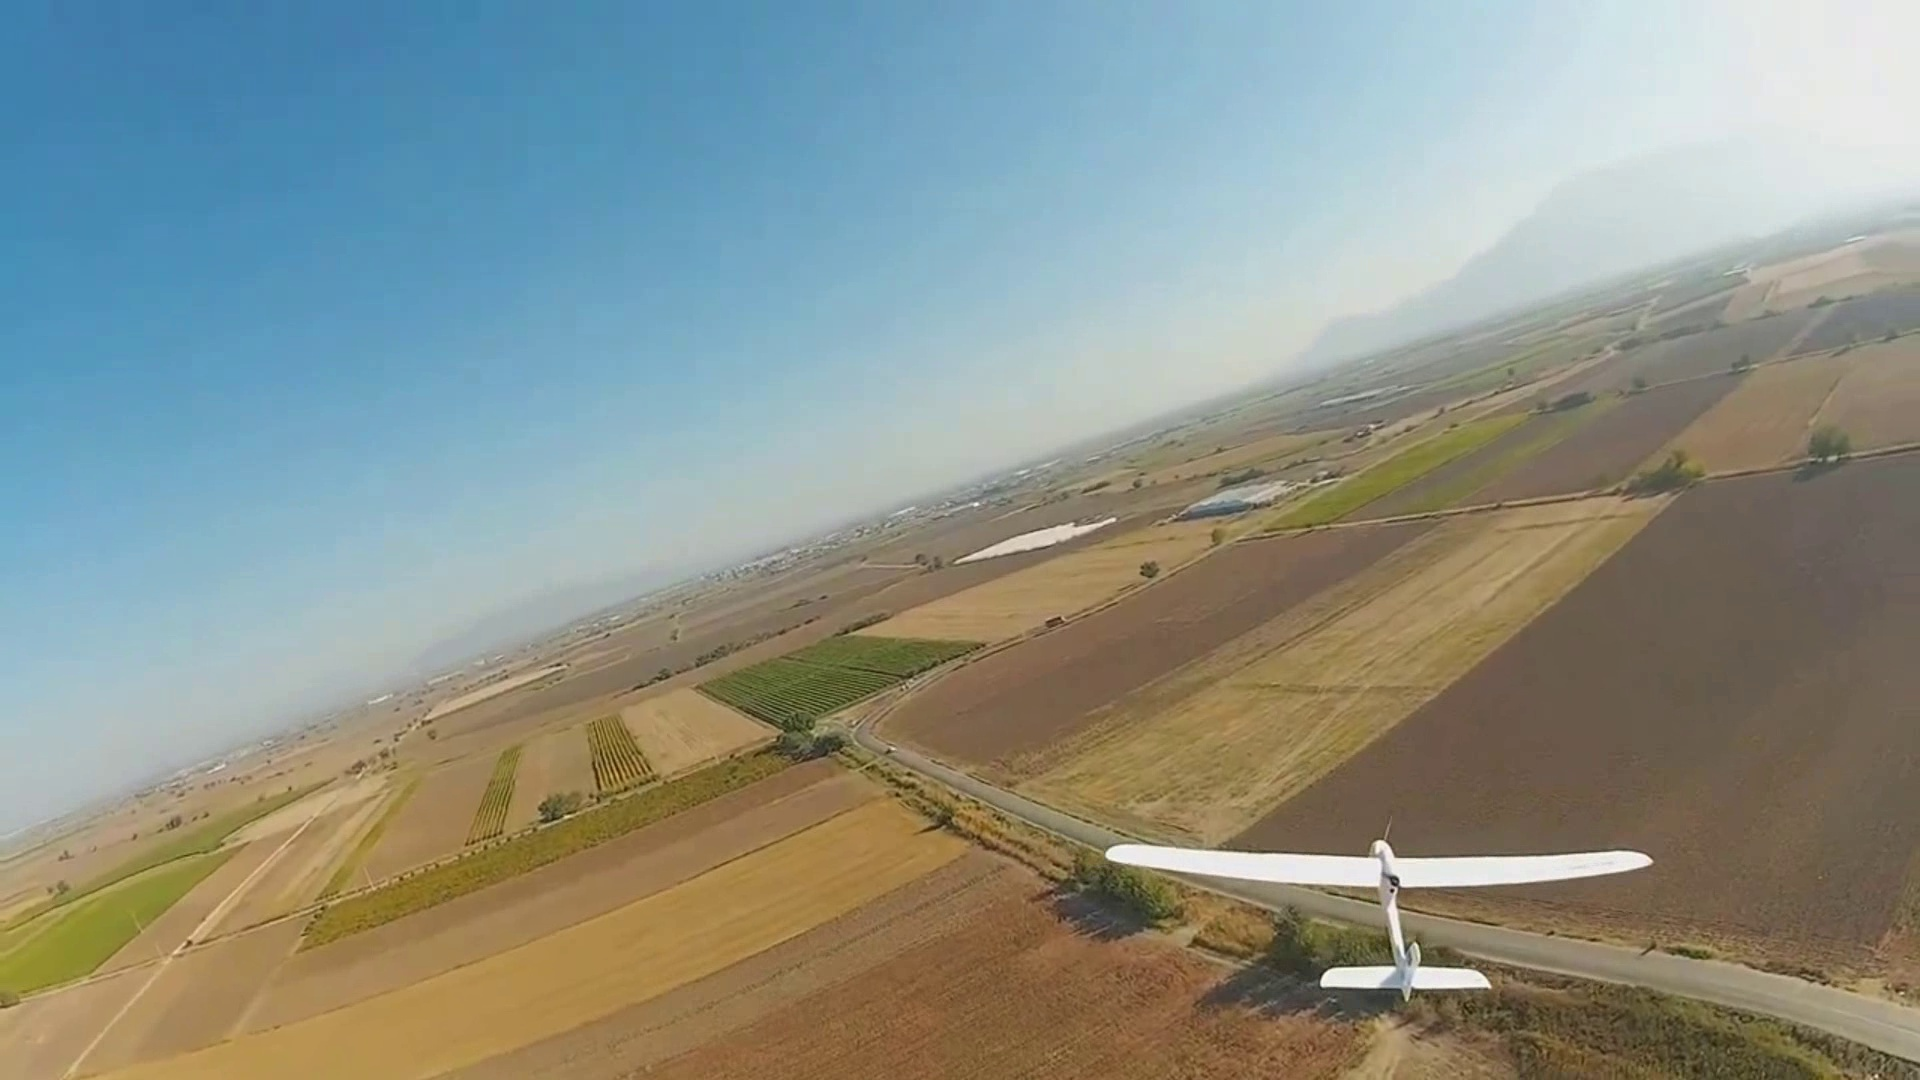airplane: (832, 739, 1672, 1020)
